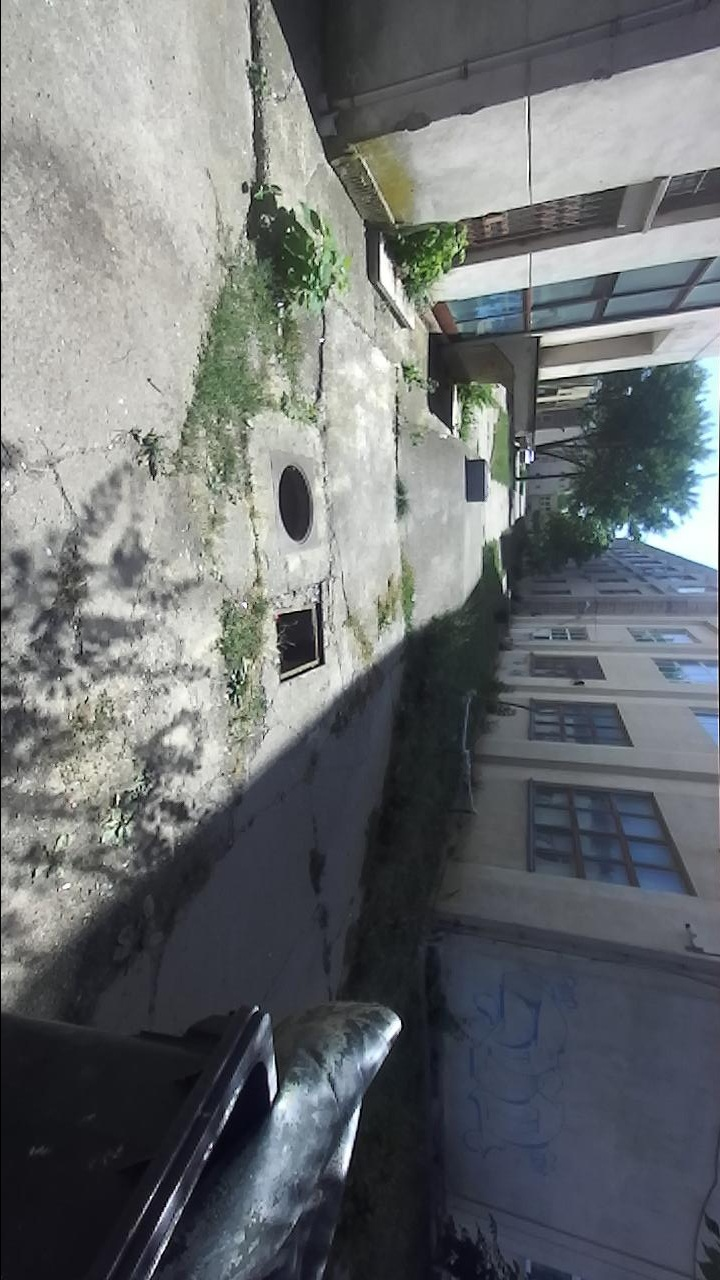drain: (276, 603, 326, 687), (278, 460, 318, 550)
